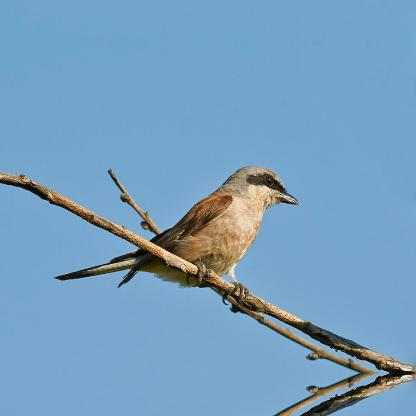Bird: (61, 170, 293, 302)
